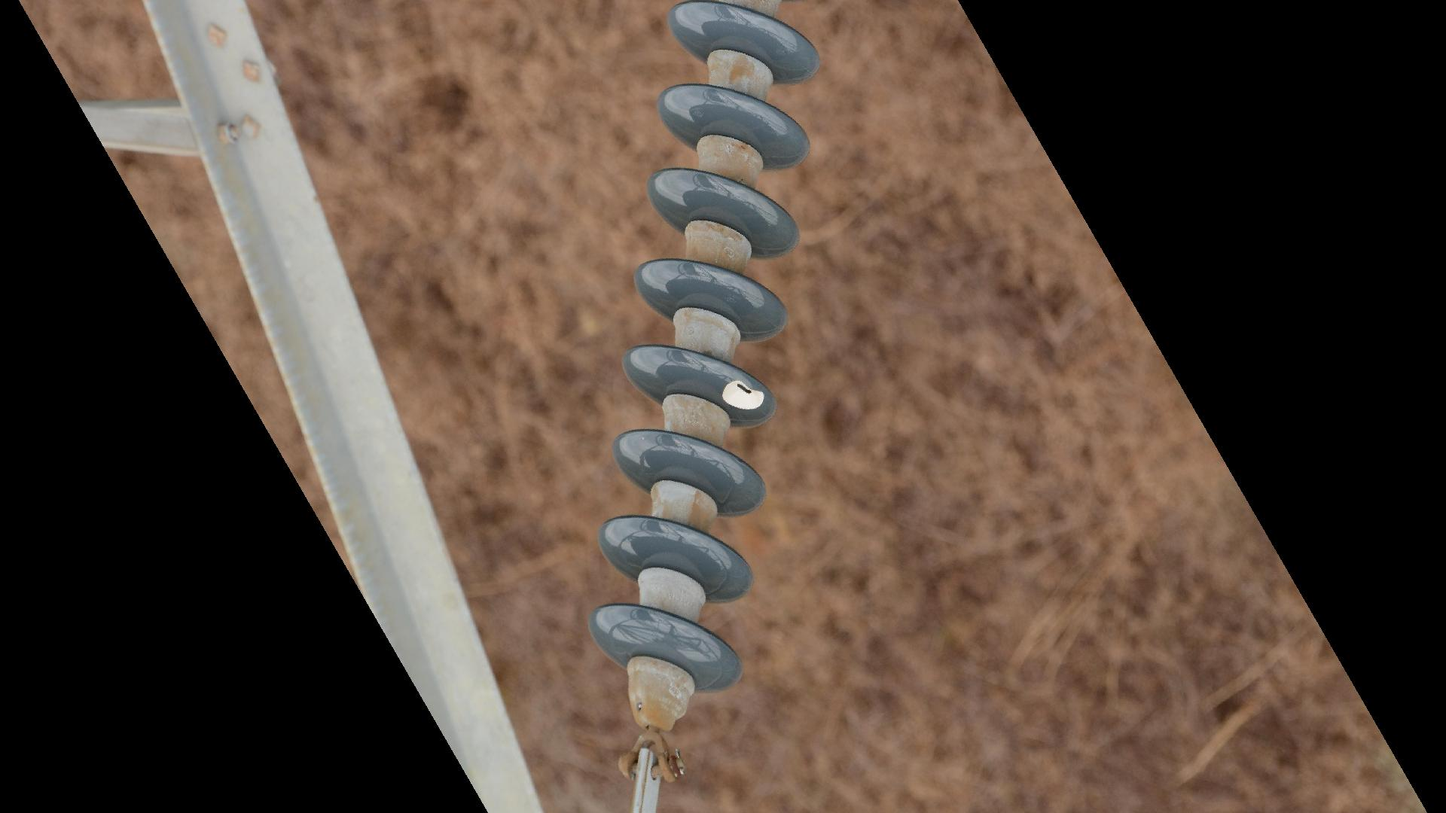insulator: (584, 1, 825, 698)
insulator_breakage: (709, 370, 779, 428)
